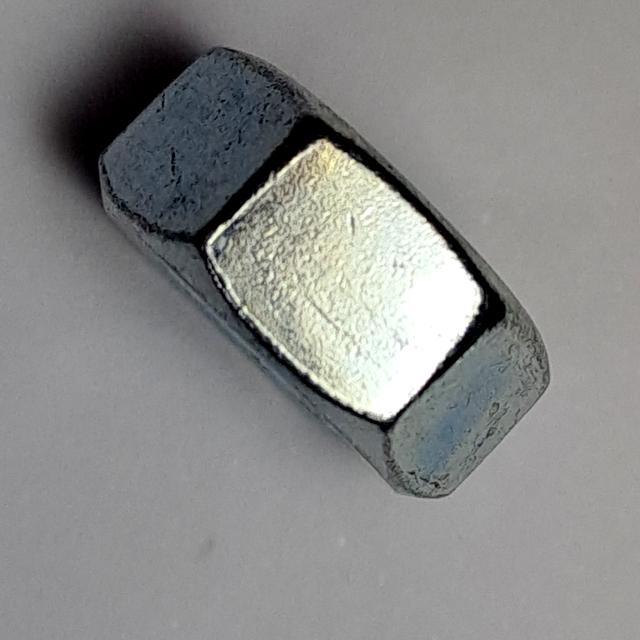Side_Excellent: (83, 32, 562, 513)
